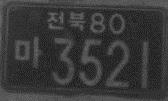0: (108, 12, 124, 34)
1: (140, 40, 150, 90)
2: (103, 38, 131, 87)
3: (51, 36, 74, 85)
5: (77, 37, 103, 87)
8: (90, 12, 105, 34)
마: (13, 34, 42, 69)
전북_O: (46, 8, 85, 31)
